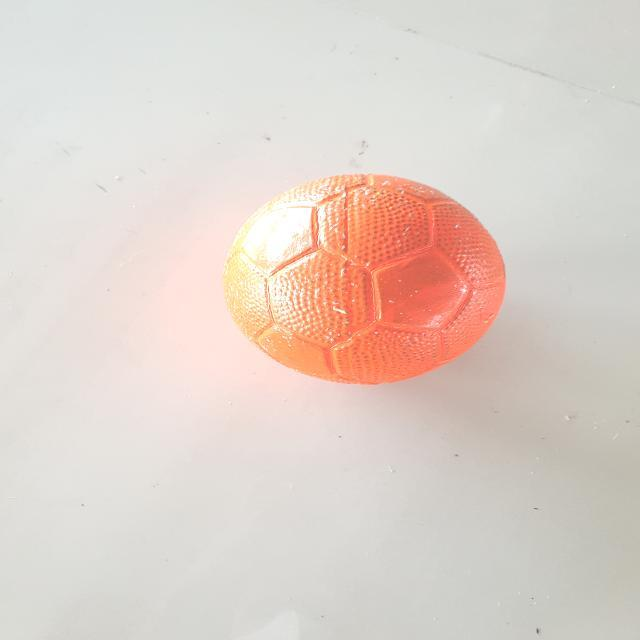bola: (215, 166, 510, 392)
